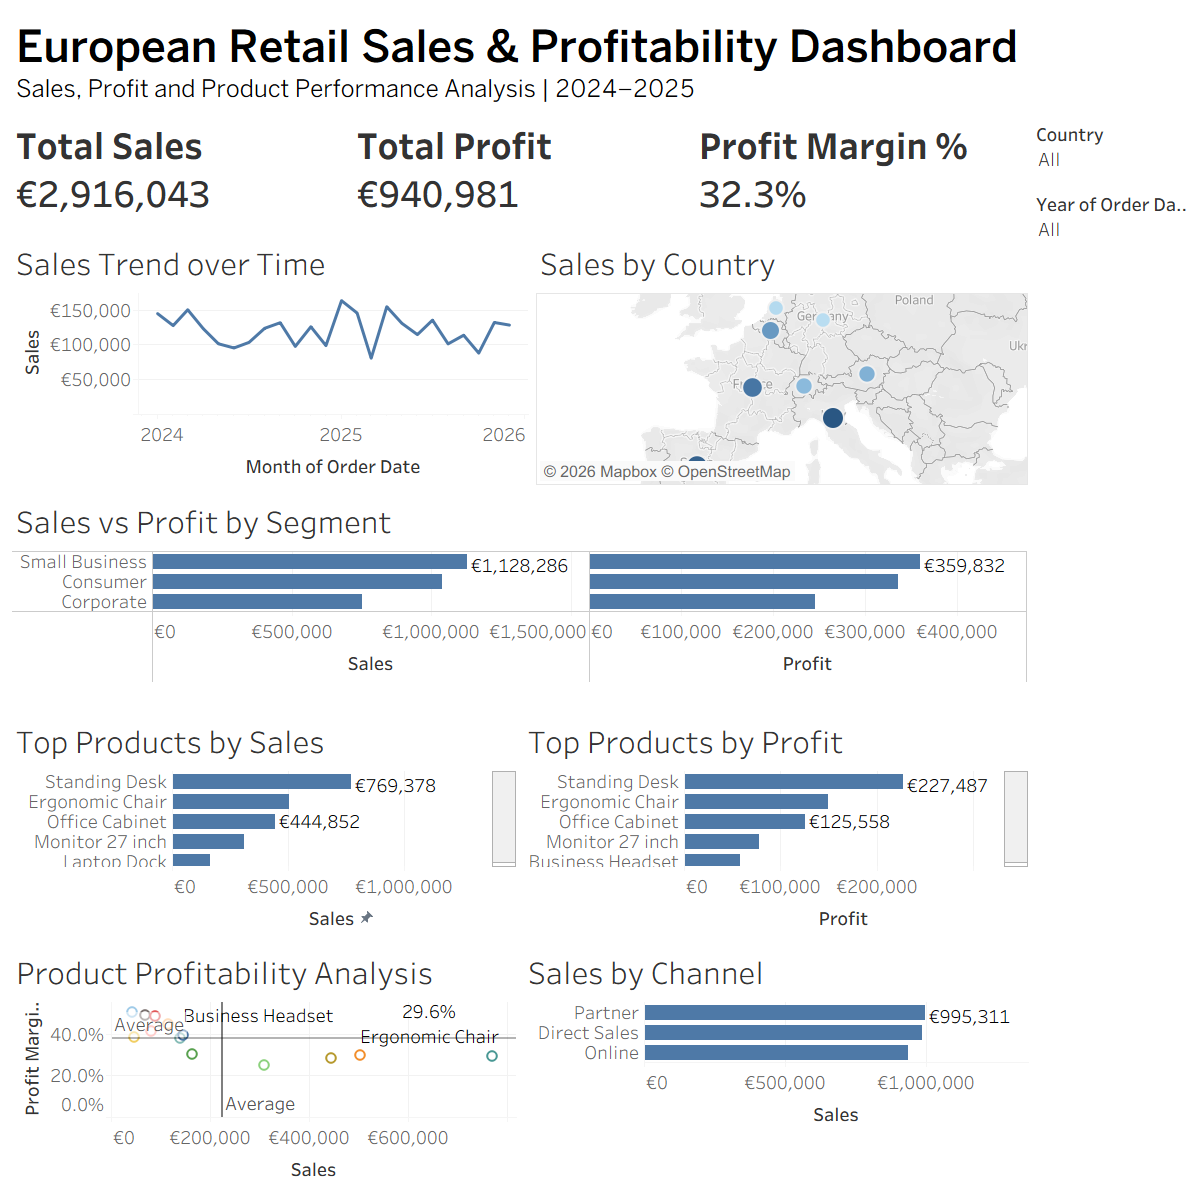

The page's visual inventory and layout, read from the dashboard file:
{"tool":"tableau","page":{"name":"Sales & Profitability Dashboard","canvas":[1200,1200],"ordinal":0},"visuals":[{"type":"text","box":[8,8,1184,108]},{"type":"worksheet","title":"KPI – Total Sales","mark":"Automatic","box":[8,116,341.3,116.3]},{"type":"worksheet","title":"KPI – Total Profit","mark":"Automatic","box":[349.3,116,341.3,116.3]},{"type":"worksheet","title":"KPI – Profit Margin %","mark":"Automatic","box":[690.7,116,341.3,116.3]},{"type":"filter","title":"Sales by Country","param":"[federated.1udo50o1i21zvn19zz7fz15p23tw].[none:Country:nk]","box":[1032,116,160,283]},{"type":"worksheet","title":"Sales Trend over Time","mark":"Automatic","rows":["Sales"],"cols":["Order Date"],"box":[8,232.3,524,257.2]},{"type":"worksheet","title":"Sales by Country","mark":"Automatic","box":[532,232.3,500,257.2]},{"type":"worksheet","title":"Sales vs Profit by Segment","mark":"Automatic","rows":["Segment"],"cols":["Sales","Profit"],"box":[8,489.5,1024,228.1]},{"type":"worksheet","title":"Top Products by Sales","mark":"Automatic","rows":["Product"],"cols":["Sales"],"box":[8,717.6,512,254.5]},{"type":"worksheet","title":"Top Products by Profit","mark":"Automatic","rows":["Product"],"cols":["Profit"],"box":[520,717.6,512,254.5]},{"type":"worksheet","title":"Product Profitability Analysis","mark":"Automatic","rows":["Calculation_0982172518010880"],"cols":["Sales"],"box":[8,972,512,219.9]},{"type":"worksheet","title":"Sales by Channel","mark":"Automatic","rows":["Sales Channel"],"cols":["Sales"],"box":[520,972,512,219.9]}]}

Visuals, with their boxes in screenshot pixels (x1, y1, x2, y2), scaled from the page's 1200x1200 canvas onto the 1200x1200 screenshot:
text: x1=8, y1=8, x2=1192, y2=116
"KPI – Total Sales" worksheet: x1=8, y1=116, x2=349, y2=232
"KPI – Total Profit" worksheet: x1=349, y1=116, x2=691, y2=232
"KPI – Profit Margin %" worksheet: x1=691, y1=116, x2=1032, y2=232
"Sales by Country" filter: x1=1032, y1=116, x2=1192, y2=399
"Sales Trend over Time" worksheet: x1=8, y1=232, x2=532, y2=490
"Sales by Country" worksheet: x1=532, y1=232, x2=1032, y2=490
"Sales vs Profit by Segment" worksheet: x1=8, y1=490, x2=1032, y2=718
"Top Products by Sales" worksheet: x1=8, y1=718, x2=520, y2=972
"Top Products by Profit" worksheet: x1=520, y1=718, x2=1032, y2=972
"Product Profitability Analysis" worksheet: x1=8, y1=972, x2=520, y2=1192
"Sales by Channel" worksheet: x1=520, y1=972, x2=1032, y2=1192
